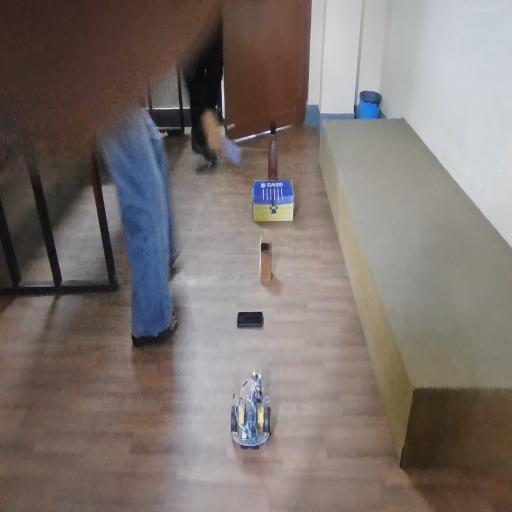Bottle: (262, 114, 287, 174)
car: (220, 362, 288, 459)
